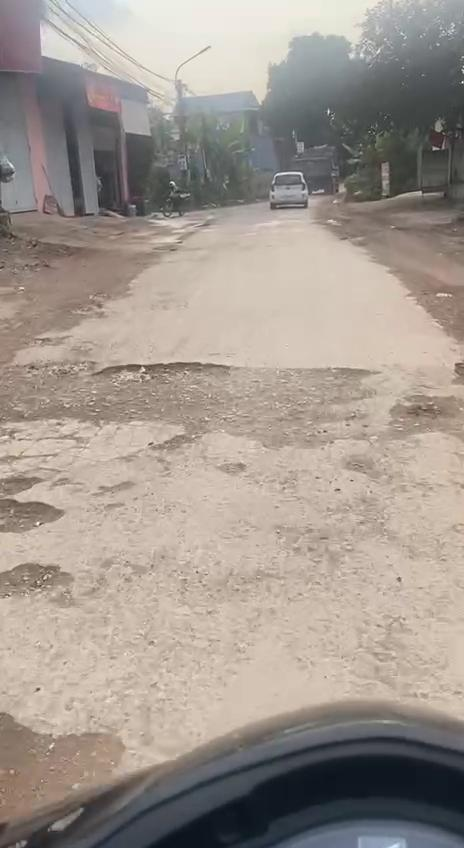pothole: (0, 364, 254, 431), (0, 703, 133, 826), (0, 473, 77, 534), (384, 389, 464, 445), (0, 552, 70, 610)
